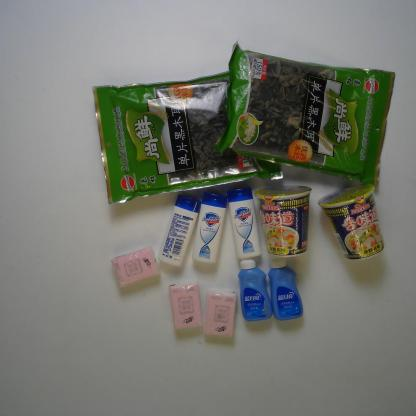Dried Food: (90, 70, 289, 208), (226, 39, 396, 187)
Instant Noodles: (313, 178, 391, 265), (255, 178, 315, 262)
Personal Hygiene: (158, 193, 202, 272), (224, 183, 264, 269), (189, 189, 232, 268), (261, 252, 305, 324), (236, 258, 272, 326)
Tissue: (109, 247, 158, 286), (202, 289, 238, 342), (168, 284, 202, 331)
